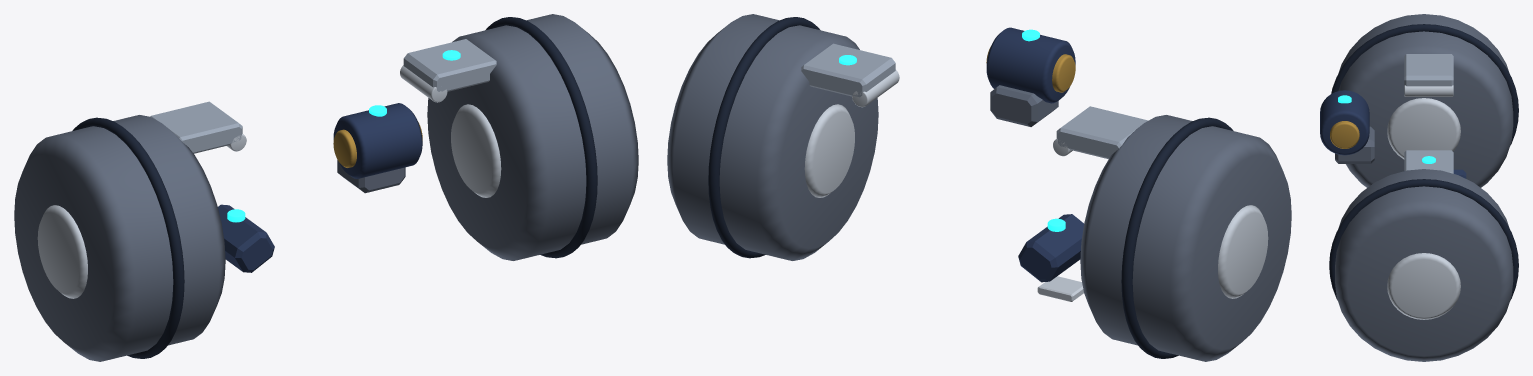
File: tower_skywatch_rate_s5.glb
3 renders of one model, left to right at view 1: azimuth 30°, elevation 25°; view 2: azimuth 150°, elevation 25°; view 3: azimuth 270°, elevation 25°, orthographic. The views are drawn at different scales.
Visible parts, largest first — view 1: skywatch_big_drum_r, skywatch_big_drum_l, skywatch_feed_motor, skywatch_big_drum_cap_r, skywatch_big_drum_cap_l, skywatch_big_drum_rib_r, skywatch_big_drum_rib_l, skywatch_belt_guide_l, skywatch_belt_guide_r, skywatch_eject_chute, skywatch_feed_motor_mount, skywatch_feed_motor_cap (+1 smaller); view 2: skywatch_big_drum_r, skywatch_big_drum_l, skywatch_feed_motor, skywatch_big_drum_cap_r, skywatch_big_drum_cap_l, skywatch_big_drum_rib_r, skywatch_big_drum_rib_l, skywatch_belt_guide_l, skywatch_belt_guide_r, skywatch_eject_chute, skywatch_feed_motor_mount, skywatch_eject_lip (+2 smaller); view 3: skywatch_big_drum_l, skywatch_big_drum_r, skywatch_big_drum_cap_l, skywatch_big_drum_cap_r, skywatch_big_drum_rib_l, skywatch_big_drum_rib_r, skywatch_feed_motor, skywatch_belt_guide_r, skywatch_belt_guide_l, skywatch_feed_motor_cap, skywatch_feed_motor_mount, skywatch_belt_guide_roller_r.
Boxes of the visible parts, <box> form: skywatch_big_drum_r: <box>14,115,225,361</box>; skywatch_big_drum_l: <box>427,14,638,260</box>; skywatch_feed_motor: <box>333,103,422,178</box>; skywatch_big_drum_cap_r: <box>37,205,87,298</box>; skywatch_big_drum_cap_l: <box>451,104,501,197</box>; skywatch_big_drum_rib_r: <box>72,117,184,358</box>; skywatch_big_drum_rib_l: <box>485,17,597,258</box>; skywatch_belt_guide_l: <box>403,39,496,91</box>; skywatch_belt_guide_r: <box>150,101,242,153</box>; skywatch_eject_chute: <box>218,204,274,272</box>; skywatch_feed_motor_mount: <box>337,160,405,193</box>; skywatch_feed_motor_cap: <box>333,122,422,167</box>; skywatch_big_drum_r: <box>1080,115,1291,361</box>; skywatch_big_drum_l: <box>667,14,878,260</box>; skywatch_feed_motor: <box>986,27,1075,103</box>; skywatch_big_drum_cap_r: <box>1218,205,1268,298</box>; skywatch_big_drum_cap_l: <box>804,104,854,197</box>; skywatch_big_drum_rib_r: <box>1121,117,1233,358</box>; skywatch_big_drum_rib_l: <box>708,17,820,258</box>; skywatch_belt_guide_l: <box>801,43,895,97</box>; skywatch_belt_guide_r: <box>1056,106,1148,158</box>; skywatch_eject_chute: <box>1018,214,1083,282</box>; skywatch_feed_motor_mount: <box>990,85,1058,126</box>; skywatch_eject_lip: <box>1037,276,1083,301</box>; skywatch_big_drum_l: <box>1335,169,1513,361</box>; skywatch_big_drum_r: <box>1338,14,1513,187</box>; skywatch_big_drum_cap_l: <box>1387,253,1460,319</box>; skywatch_big_drum_cap_r: <box>1387,98,1460,159</box>; skywatch_big_drum_rib_l: <box>1329,179,1518,300</box>; skywatch_big_drum_rib_r: <box>1331,24,1518,145</box>; skywatch_feed_motor: <box>1320,90,1369,155</box>; skywatch_belt_guide_r: <box>1404,54,1453,86</box>; skywatch_belt_guide_l: <box>1404,150,1453,173</box>; skywatch_feed_motor_cap: <box>1330,121,1359,148</box>; skywatch_feed_motor_mount: <box>1335,126,1374,163</box>; skywatch_belt_guide_roller_r: <box>1404,85,1453,96</box>.
Size of the model in its own units: 1.92 by 0.784 by 0.803.
